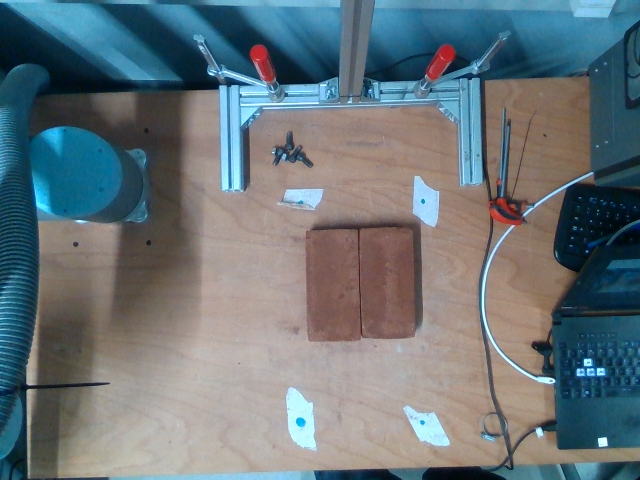brick: (304, 231, 360, 341), (358, 229, 413, 339)
